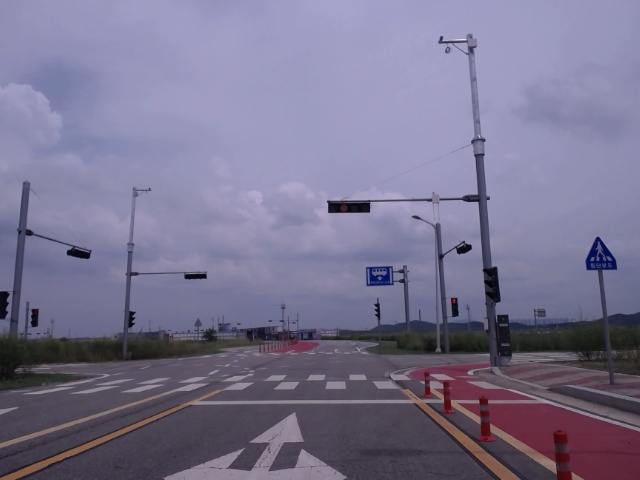orange_4: (325, 200, 373, 214)
